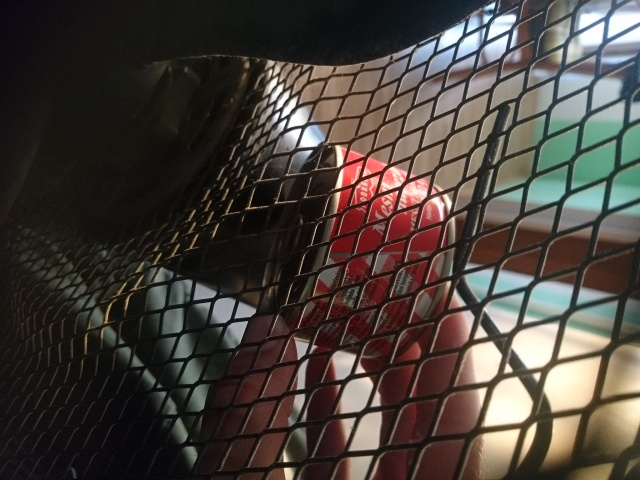Podravka Luncheon Meat 150g: (258, 139, 459, 365)
